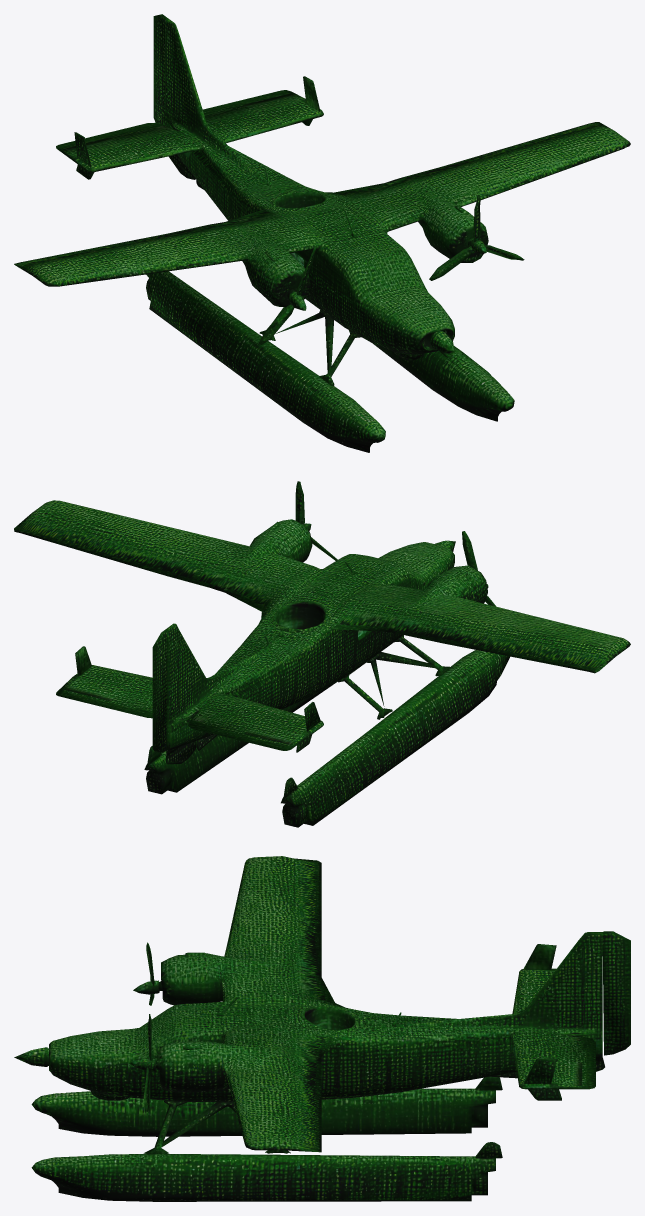
File: 019f12e6-cd03-7cef-8346-f45f1f0967a5.glb
3 renders of one model, top to bottom at view 1: azimuth 30°, elevation 25°; view 2: azimuth 150°, elevation 25°; view 3: azimuth 270°, elevation 25°, orthographic. The views are drawn at different scales.
Parts seen in each view (by area): view 1: tripo_node_7ecbc230-d790-4109-a57d-0532b79b6fde; view 2: tripo_node_7ecbc230-d790-4109-a57d-0532b79b6fde; view 3: tripo_node_7ecbc230-d790-4109-a57d-0532b79b6fde.
Boxes of the visible parts, bbox=[...] form: tripo_node_7ecbc230-d790-4109-a57d-0532b79b6fde: bbox=[14, 14, 630, 452]; tripo_node_7ecbc230-d790-4109-a57d-0532b79b6fde: bbox=[14, 481, 630, 827]; tripo_node_7ecbc230-d790-4109-a57d-0532b79b6fde: bbox=[14, 856, 630, 1201].
Size of the model in its own units: 0.998 by 0.3652 by 0.8926.
Materials: 1 (1 with a texture image).
